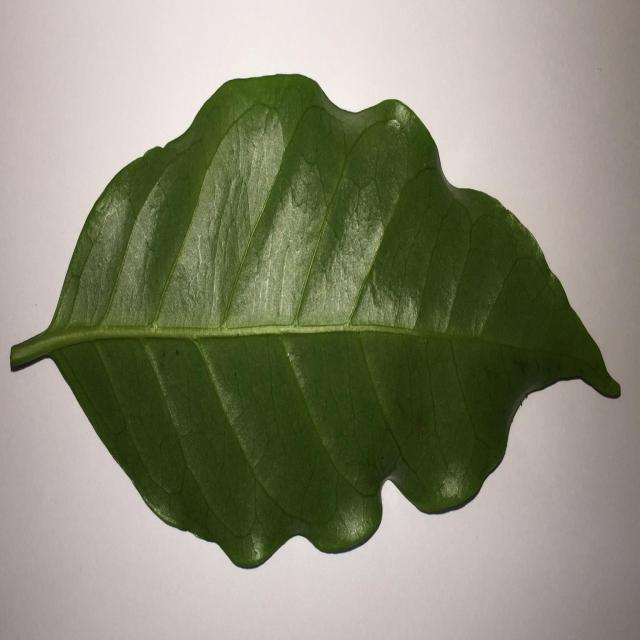Sanas: (8, 74, 622, 572)
